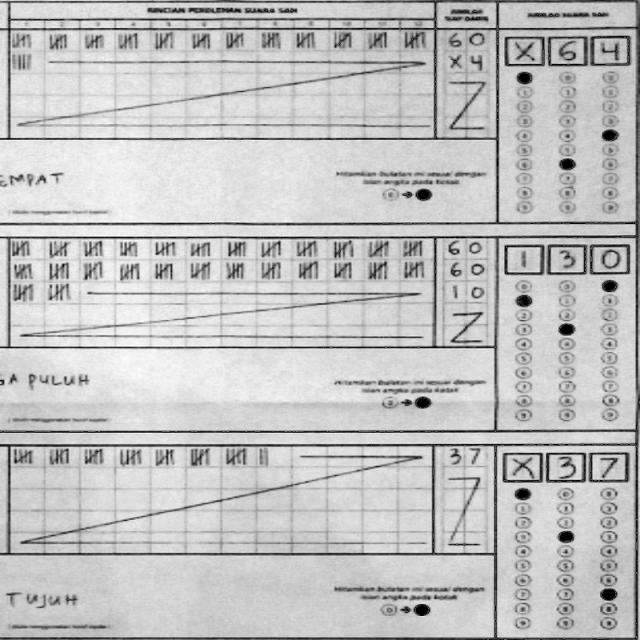Suara: (501, 29, 631, 68), (501, 240, 632, 276), (500, 448, 630, 482)
